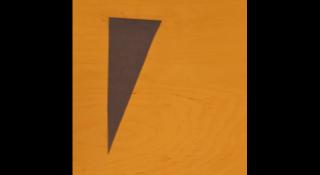Triangle: (108, 16, 162, 154)
